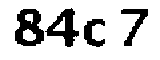4: (46, 6, 82, 53)
7: (118, 5, 151, 54)
8: (12, 5, 46, 47)
c: (81, 14, 107, 50)
